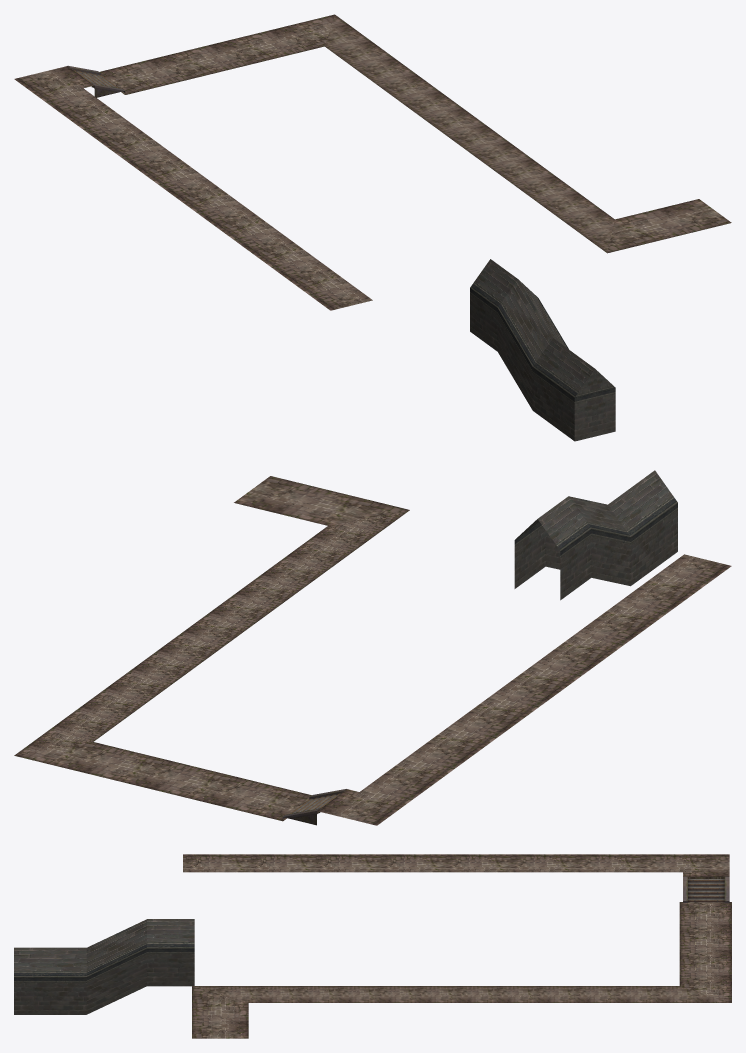
The model's file is dimian.FBX.
3 views of the same model, one above another, from view 1: azimuth 30°, elevation 25°; view 2: azimuth 150°, elevation 25°; view 3: azimuth 270°, elevation 25° (orthographic). The views are drawn at different scales.
Parts seen in each view (by area): view 1: diban; view 2: diban; view 3: diban.
Boxes of the visible parts, x1,y1,x2,y2 form: diban: (14,14,731,441); diban: (14,470,731,825); diban: (14,854,731,1038).
Size of the model in its own units: 5275 by 1253 by 9350.
